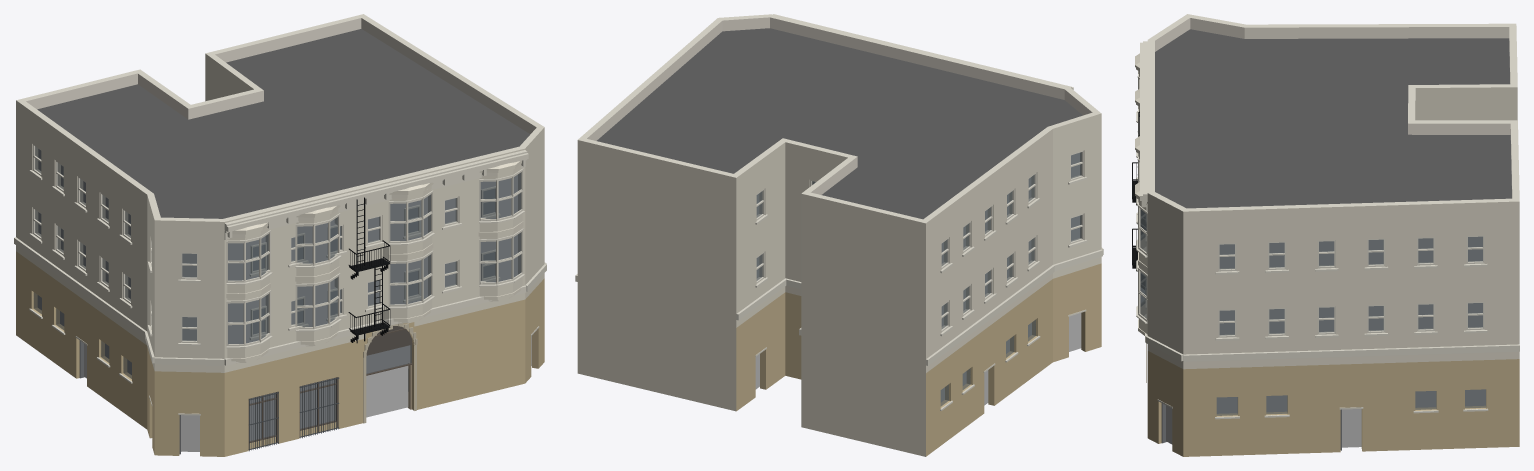
The model's file is exterior.glb.
The picture shows the model from 3 angles, left to right: view 1: azimuth 30°, elevation 25°; view 2: azimuth 150°, elevation 25°; view 3: azimuth 270°, elevation 25°; orthographic projection. The views are drawn at different scales.
Visible parts, largest first — view 1: shell, roof, bay-glazing-hyb, shadow-proxy, glazing, trim, bay-windows-hyb, frames, storefront, fire-escape-ladder, front-dressing-r4, hyC-arches-2; view 2: shell, roof, trim, glazing, frames, shadow-proxy; view 3: shell, roof, shadow-proxy, glazing, trim, frames, bay-glazing-hyb, bay-windows-hyb.
Part boxes in pixels (x1,y1,x2,y2): shell: [16, 14, 544, 456]; roof: [37, 29, 529, 218]; bay-glazing-hyb: [226, 168, 524, 348]; shadow-proxy: [38, 149, 531, 451]; glazing: [33, 146, 494, 441]; trim: [14, 150, 546, 383]; bay-windows-hyb: [224, 160, 523, 363]; frames: [33, 144, 495, 343]; storefront: [75, 326, 539, 454]; fire-escape-ladder: [348, 197, 390, 343]; front-dressing-r4: [366, 326, 412, 355]; hyC-arches-2: [363, 324, 416, 423]; shell: [577, 14, 1101, 456]; roof: [597, 28, 1082, 219]; trim: [575, 14, 1103, 410]; glazing: [756, 152, 1081, 406]; frames: [756, 150, 1083, 331]; shadow-proxy: [755, 153, 1081, 405]; shell: [1147, 14, 1519, 456]; roof: [1155, 29, 1511, 208]; shadow-proxy: [1166, 237, 1485, 447]; glazing: [1216, 236, 1485, 415]; trim: [1140, 41, 1519, 419]; frames: [1218, 235, 1484, 337]; bay-glazing-hyb: [1136, 71, 1147, 323]; bay-windows-hyb: [1135, 53, 1147, 335].
Bounding box in the file's own units: 21.96 × 12.58 × 18.02.
